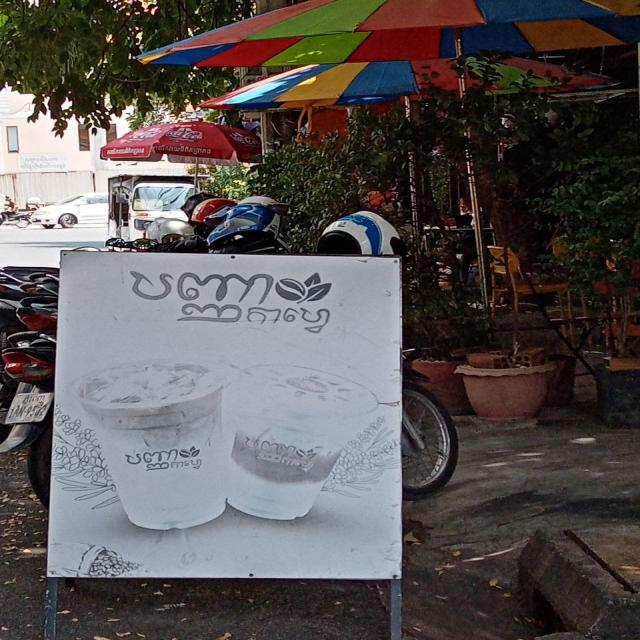Yolov11kh: (85, 259, 365, 332), (233, 297, 353, 336)
